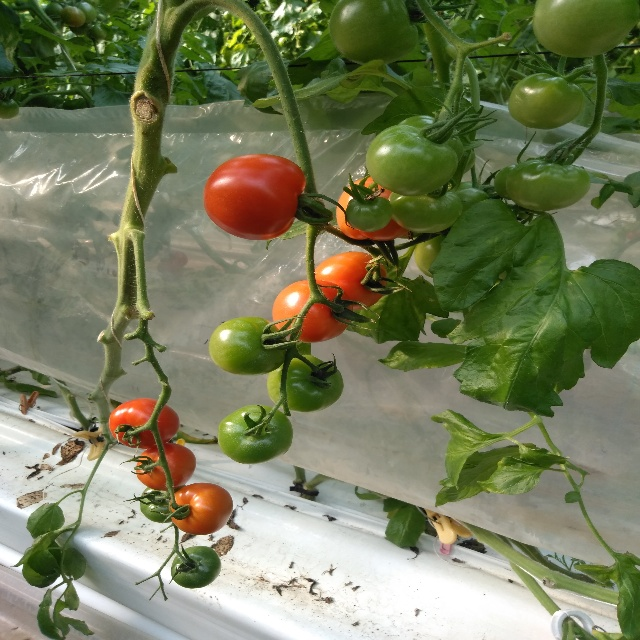l_fully_ripened: (203, 153, 306, 241), (108, 398, 180, 449), (136, 442, 196, 491)
l_green: (366, 124, 460, 197), (532, 0, 639, 59), (329, 0, 419, 67), (209, 316, 287, 376), (267, 354, 345, 413), (218, 405, 294, 465), (506, 158, 590, 212), (509, 73, 585, 130), (389, 186, 464, 233), (396, 116, 465, 163), (170, 545, 222, 589), (414, 227, 452, 278), (140, 485, 186, 524), (345, 196, 393, 232), (446, 182, 500, 213), (494, 164, 517, 200)
l_half_ripened: (273, 279, 353, 343), (336, 177, 411, 241), (314, 251, 388, 310), (169, 483, 234, 535)
